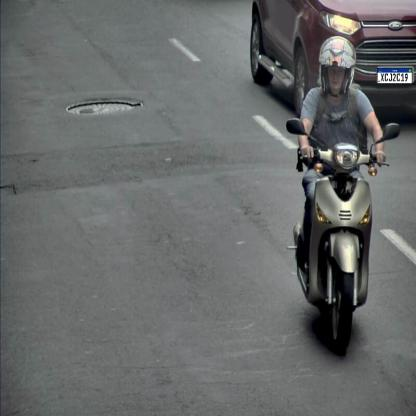PlacaM: (377, 68, 412, 84)
